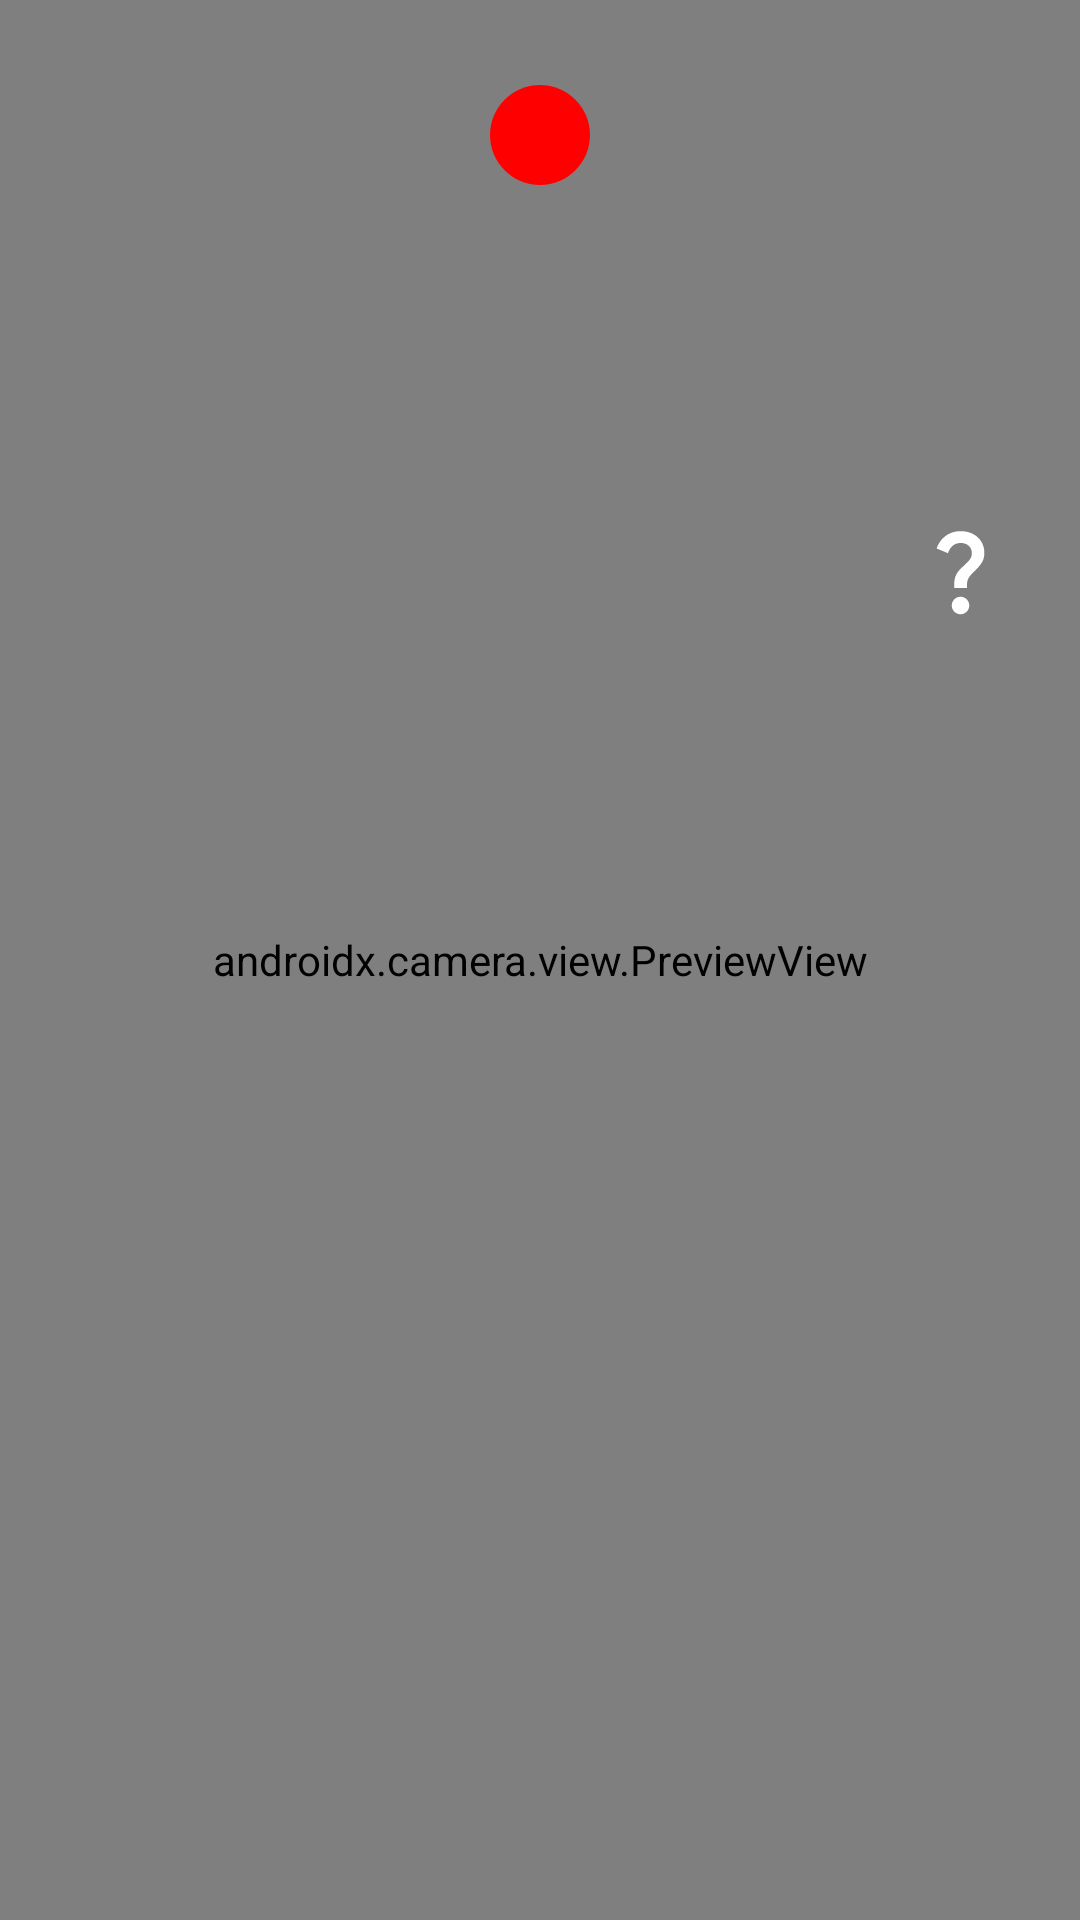

Where to tap for icons on this 1080 × 1920 app screen, as (x,y):
open help: (961,573)
